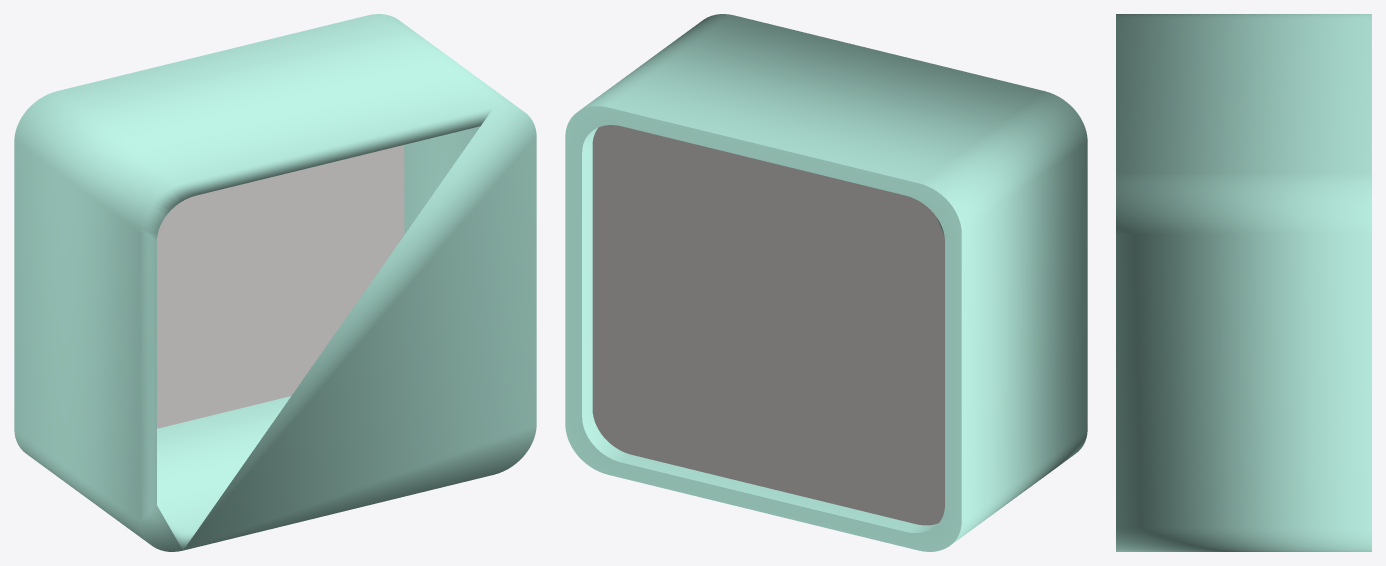
File: stand product2_asset.fbx
3 renders of one model, left to right at view 1: azimuth 30°, elevation 25°; view 2: azimuth 150°, elevation 25°; view 3: azimuth 270°, elevation 25°, orthographic.
Visible parts, largest first — view 1: Cube.002, Cube.003; view 2: Cube.002, Cube.003; view 3: Cube.002.
Part boxes in pixels (x1=…): Cube.002: x1=14, y1=14, x2=536, y2=551; Cube.003: x1=157, y1=145, x2=404, y2=428; Cube.002: x1=565, y1=14, x2=1087, y2=551; Cube.003: x1=592, y1=125, x2=944, y2=525; Cube.002: x1=1116, y1=14, x2=1371, y2=551.
Bounding box in the file's own units: 754 × 668 × 415.
